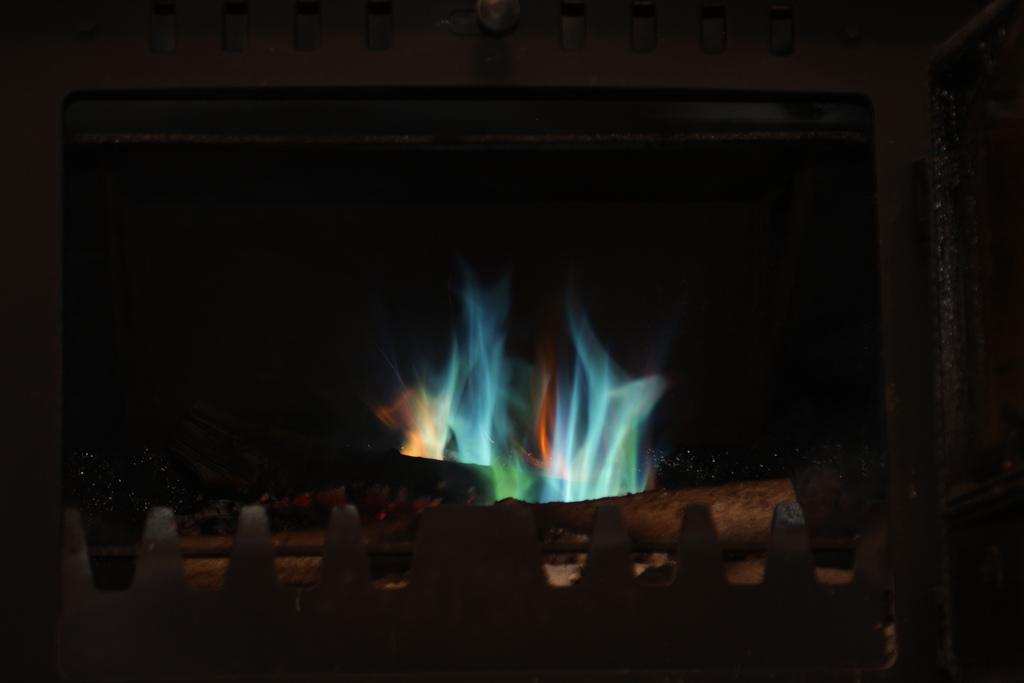fire: (560, 345, 668, 498), (450, 337, 523, 473)
